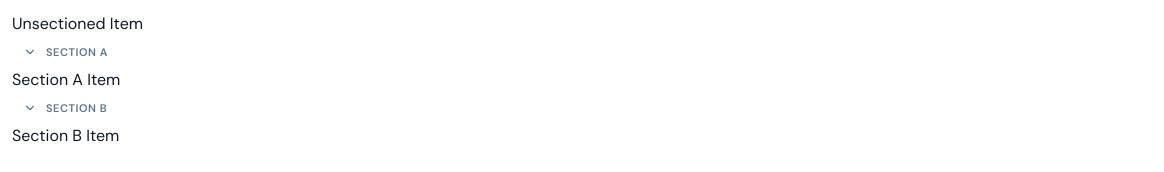
Test: SectionList › toggles section collapse when clicking header
expect the text "Section A Item" is shown: met, box [12,69,120,90]
# Click to collapse
Click the button "Section A". click: (77, 52)
box: [46,44,1156,60]
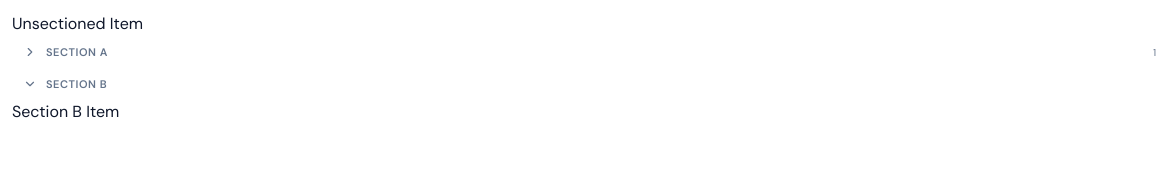
expect the text "Section A Item" is gone: met
